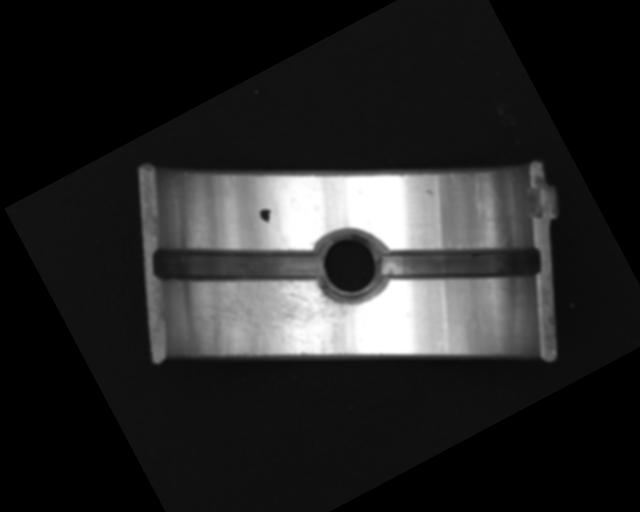blot: (256, 204, 277, 226)
bruise: (423, 187, 436, 200)
gap: (148, 187, 324, 342), (378, 195, 545, 337)
hole: (305, 220, 397, 314)
scratch: (186, 226, 382, 409)
